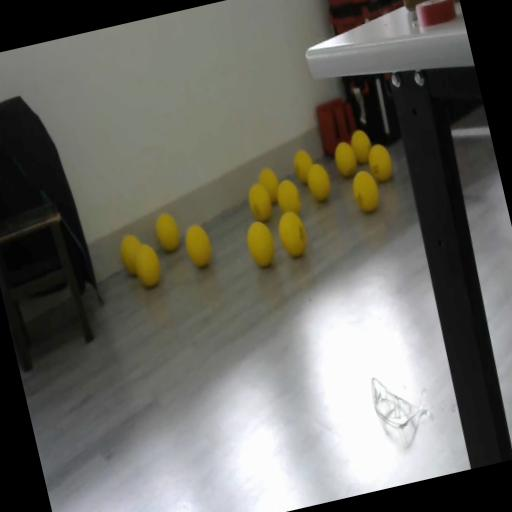FUEL: (242, 216, 280, 270), (274, 206, 312, 260), (180, 220, 216, 270), (348, 166, 383, 214), (116, 232, 148, 278), (152, 210, 184, 254), (272, 176, 304, 219), (365, 142, 396, 184), (331, 139, 360, 180), (289, 146, 318, 186), (256, 164, 284, 205), (348, 127, 375, 166)
